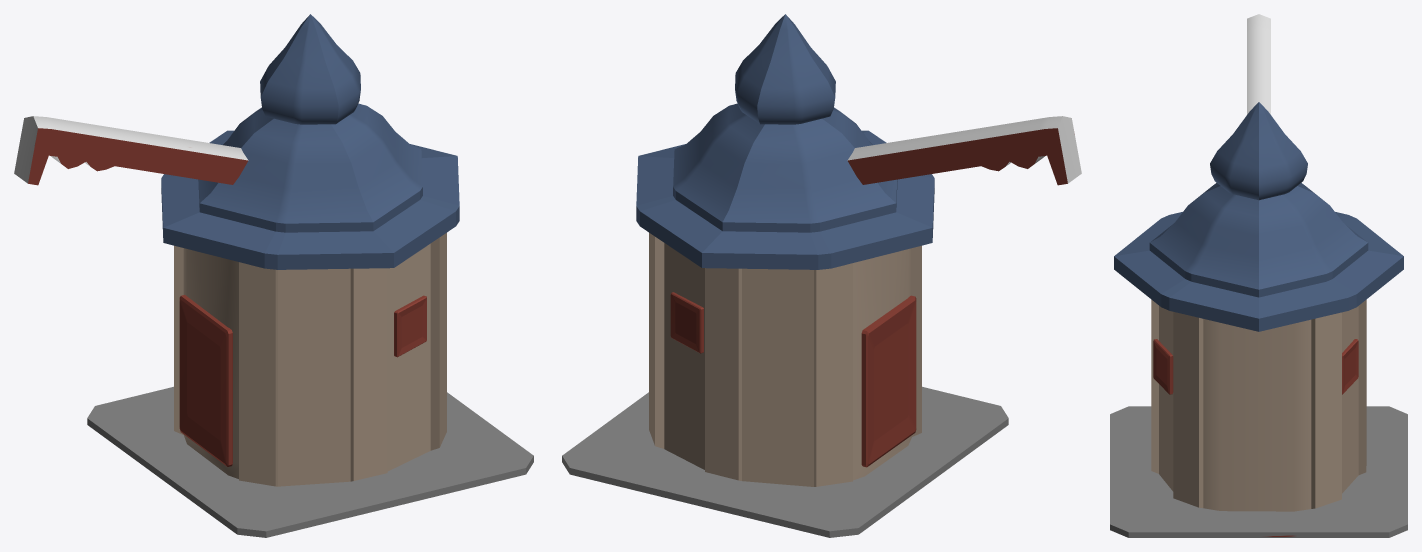
Rendered from krane.fbx.
3 renders of one model, left to right at view 1: azimuth 30°, elevation 25°; view 2: azimuth 150°, elevation 25°; view 3: azimuth 270°, elevation 25°, orthographic. The views are drawn at different scales.
Parts seen in each view (by area): view 1: pCube1, pCube2, pCube4, pCube3, pCube5, pCube7; view 2: pCube1, pCube2, pCube4, pCube3, pCube5, pCube8; view 3: pCube1, pCube2, pCube4, pCube3, pCube7, pCube8, pCube6.
Boxes of the visible parts, x1,y1,x2,y2 form: pCube1: [174, 233, 446, 486]; pCube2: [161, 14, 459, 269]; pCube4: [87, 386, 533, 537]; pCube3: [14, 116, 248, 185]; pCube5: [179, 295, 232, 466]; pCube7: [394, 295, 426, 356]; pCube1: [649, 233, 921, 486]; pCube2: [636, 14, 934, 269]; pCube4: [562, 386, 1008, 537]; pCube3: [847, 116, 1081, 185]; pCube5: [861, 295, 916, 467]; pCube8: [670, 292, 703, 353]; pCube1: [1151, 299, 1366, 511]; pCube2: [1114, 102, 1403, 331]; pCube4: [1110, 406, 1407, 537]; pCube3: [1247, 14, 1270, 114]; pCube7: [1153, 339, 1172, 394]; pCube8: [1342, 339, 1358, 394]; pCube6: [1153, 339, 1173, 394].
Size of the model in its own units: 18.2 by 17.06 by 12.33.
